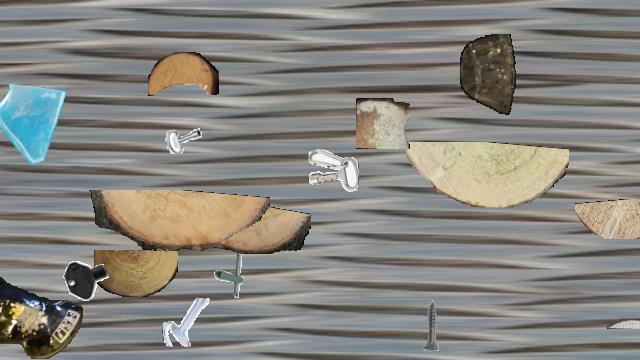glass: (0, 77, 79, 167)
metal: (404, 298, 458, 352), (152, 99, 206, 153), (206, 247, 258, 299), (61, 251, 113, 303), (308, 147, 358, 197), (162, 297, 212, 347)
plastic: (0, 247, 82, 359), (460, 34, 516, 116)
wood: (86, 190, 270, 252), (398, 142, 568, 208), (166, 202, 310, 254), (94, 250, 178, 296), (148, 52, 218, 96), (356, 98, 410, 148), (575, 199, 640, 239), (607, 319, 640, 329)
